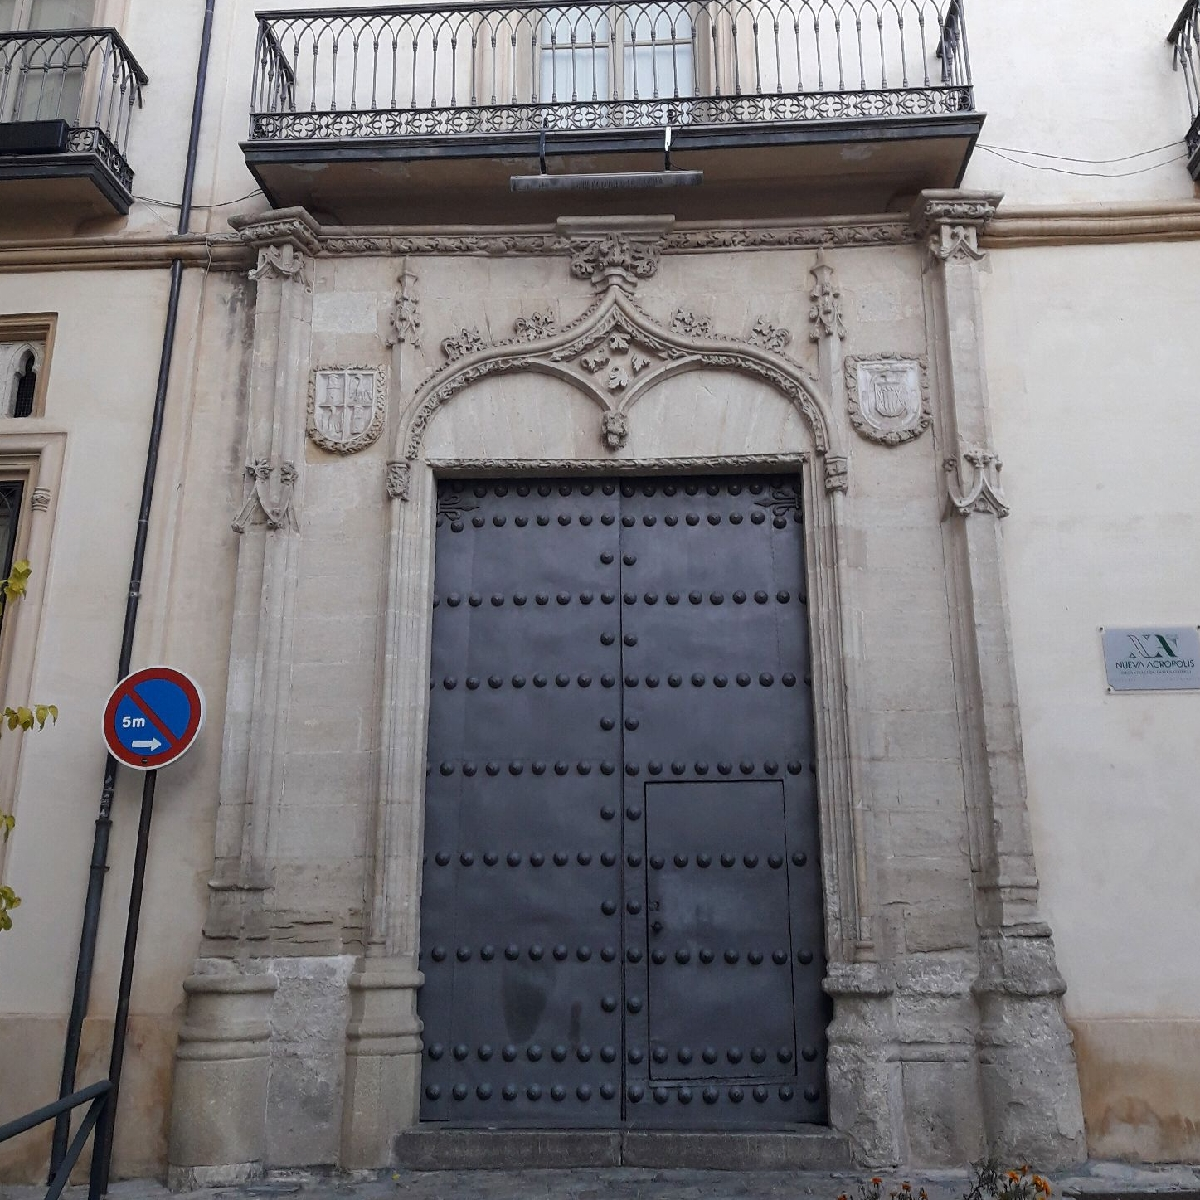arco-conopial: (396, 275, 842, 468)
